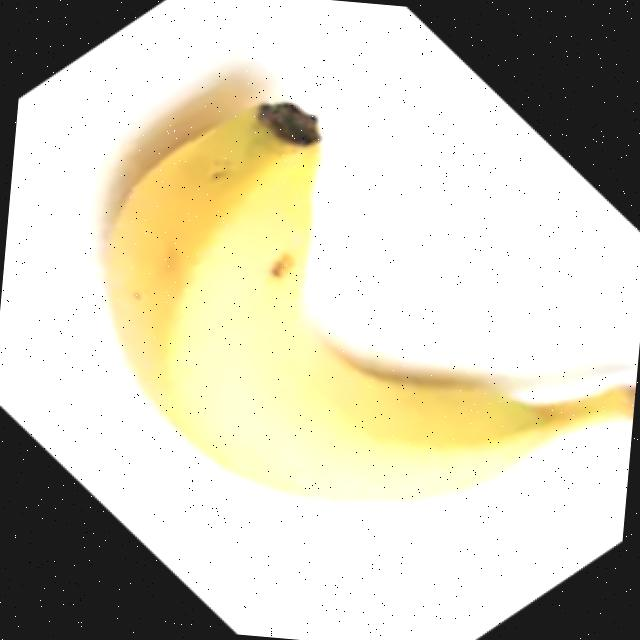banana: (79, 83, 640, 529)
